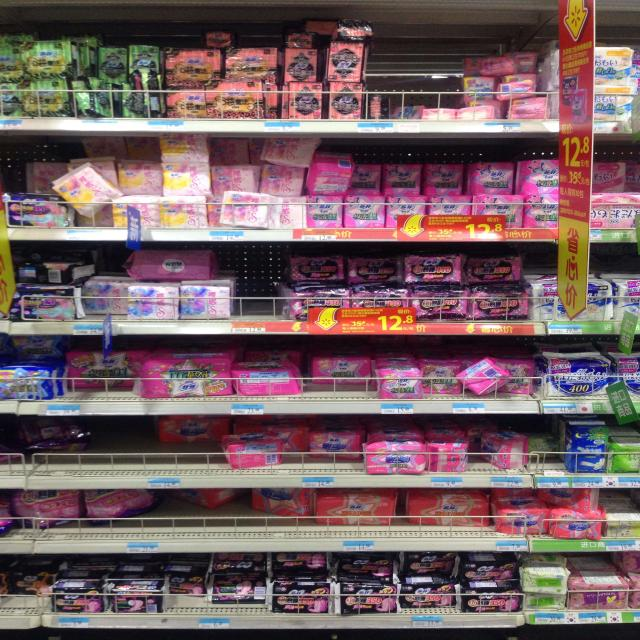void: (88, 419, 153, 491), (236, 252, 289, 335), (160, 493, 207, 554), (209, 489, 248, 553)
